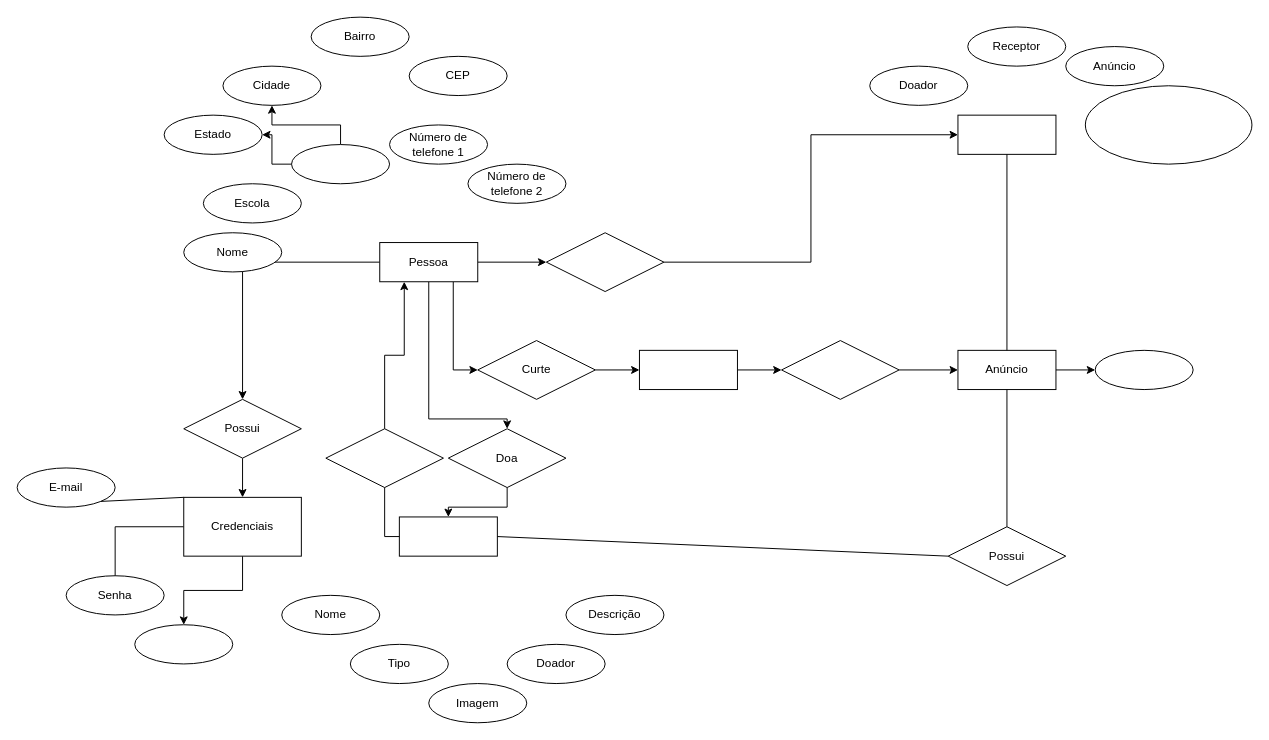
The diagram is 1269 pixels wide and 740 high, and some of its shapes have lost their labels. Each missing label, with the box of its shape:
Endereço: (291, 144, 390, 184)
Está vinculado: (781, 340, 899, 399)
Favorito: (638, 349, 737, 390)
Faz: (545, 232, 664, 292)
Material eletrônico: (398, 516, 497, 556)
Nome de usuário: (134, 624, 233, 664)
Pedido: (957, 114, 1056, 154)
Quantidade em Estoque: (1094, 349, 1193, 390)
Recebe: (325, 428, 443, 488)
Status: Em andamento, Cancelado, Entregue: (1084, 85, 1252, 164)
